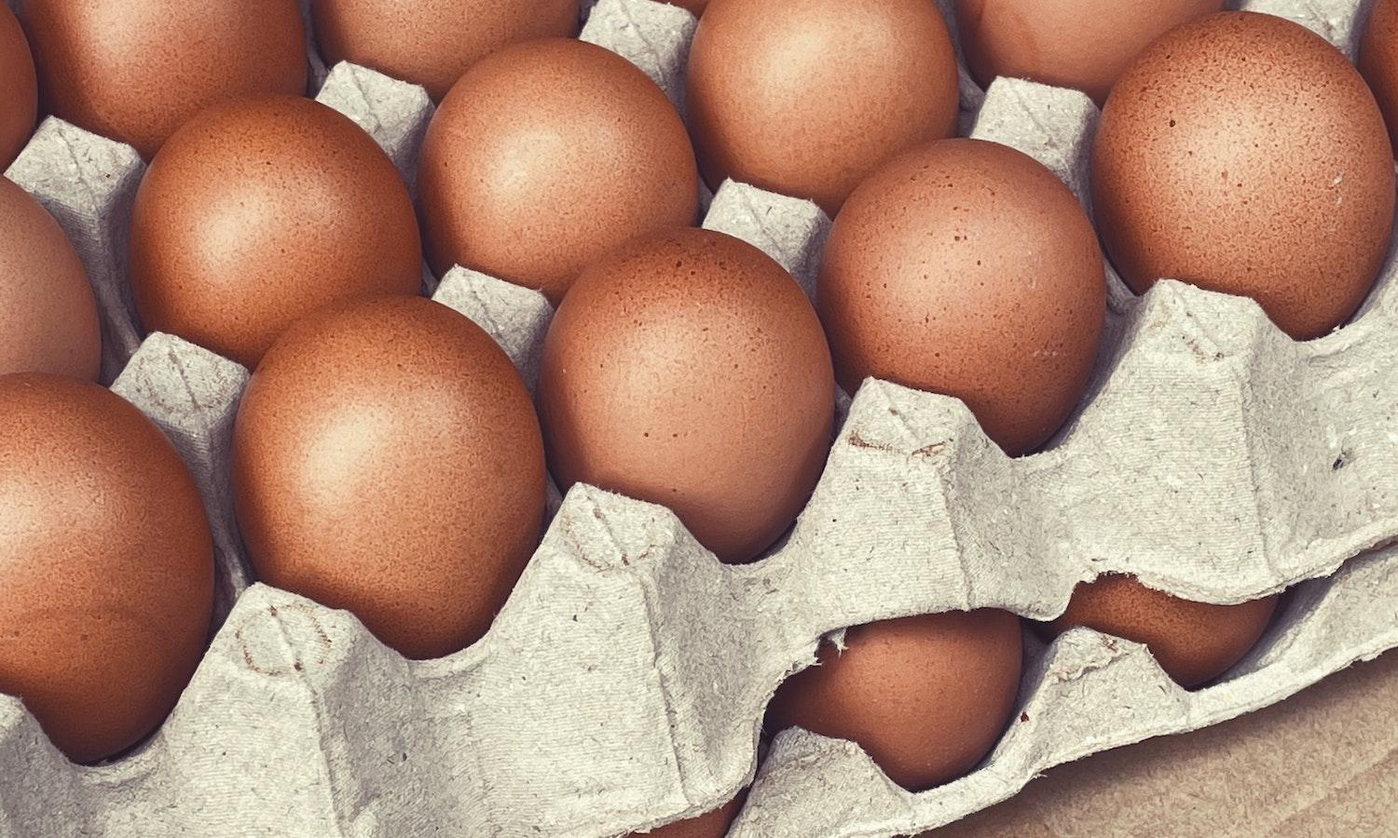egg: (247, 289, 548, 652), (527, 223, 839, 559), (1100, 7, 1393, 345), (0, 361, 235, 777), (832, 133, 1125, 459), (135, 88, 424, 345), (426, 28, 711, 273), (23, 0, 314, 133)
